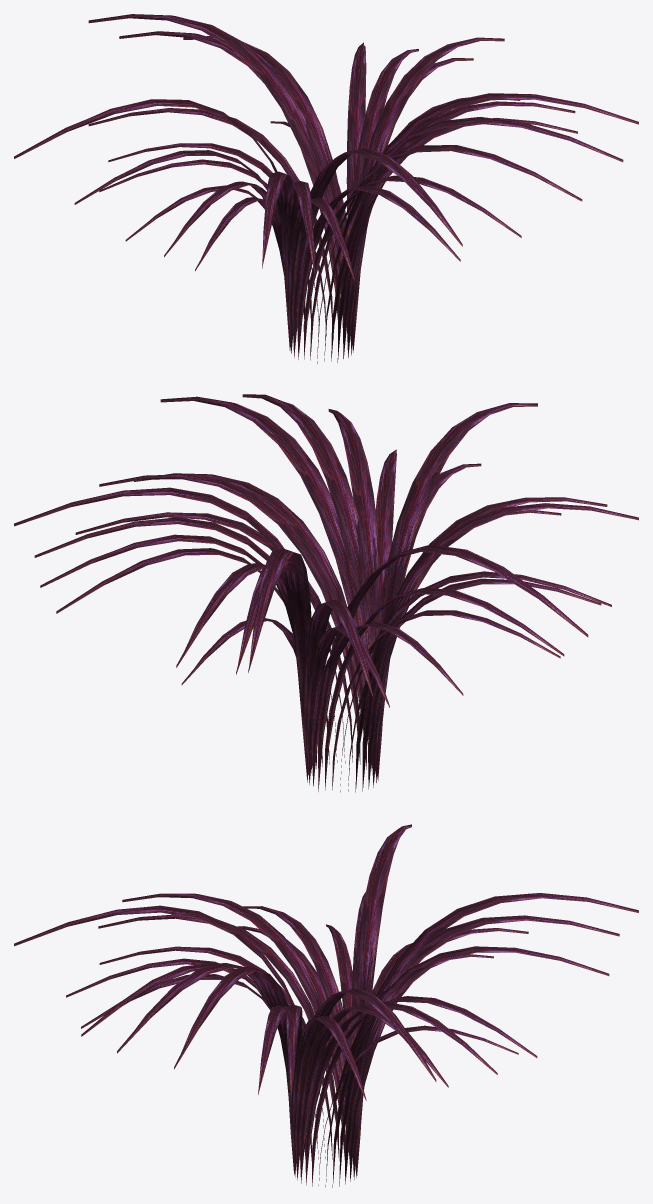
File: finegrass_meadow_04.glb
3 views of the same model, one above another, from view 1: azimuth 30°, elevation 25°; view 2: azimuth 150°, elevation 25°; view 3: azimuth 270°, elevation 25° (orthographic). The views are drawn at different scales.
Visible parts, largest first — view 1: export; view 2: export; view 3: export.
Part boxes in pixels (x1,y1,x2,y2): export: [14, 14, 638, 363]; export: [14, 394, 638, 792]; export: [14, 824, 638, 1187].
Bounding box in the file's own units: 1.46 × 0.7474 × 1.59.
1 material, 1 textured.
